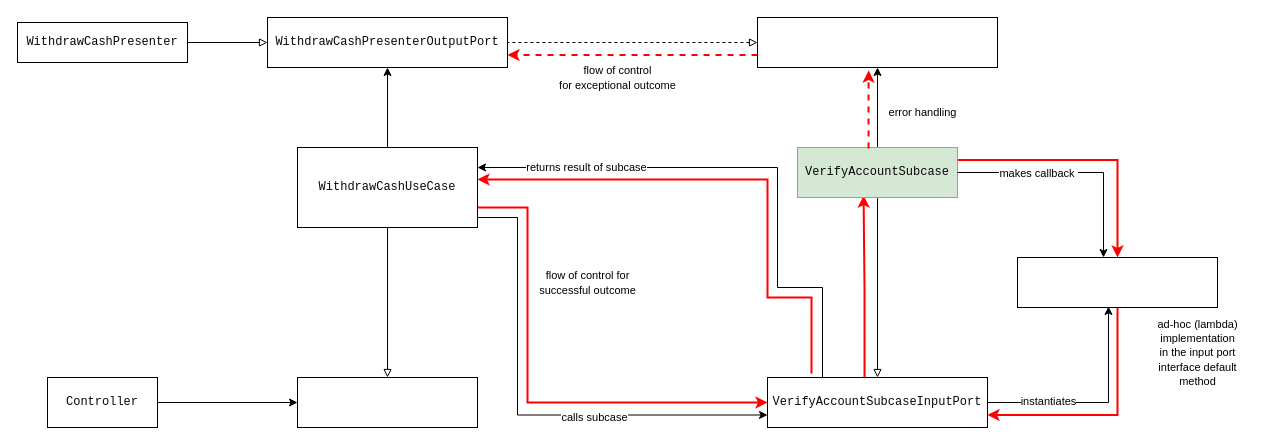
The diagram is 1265 pixels wide and 445 high, and some of its shapes have lost their labels. The centre of each missing label's shape, as x and y in pixels:
VerifyAccountPresenterOutputPort: (x=877, y=42)
VerifyAccountResultCallback: (x=1117, y=282)
WithdrawCashInputPort: (x=387, y=402)
